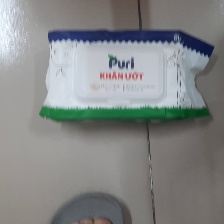Puri Trang: (38, 29, 214, 125)
